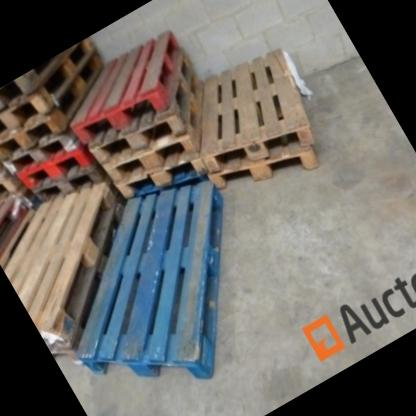BoxFace: (76, 182, 225, 382), (203, 41, 318, 174), (67, 27, 178, 144)
